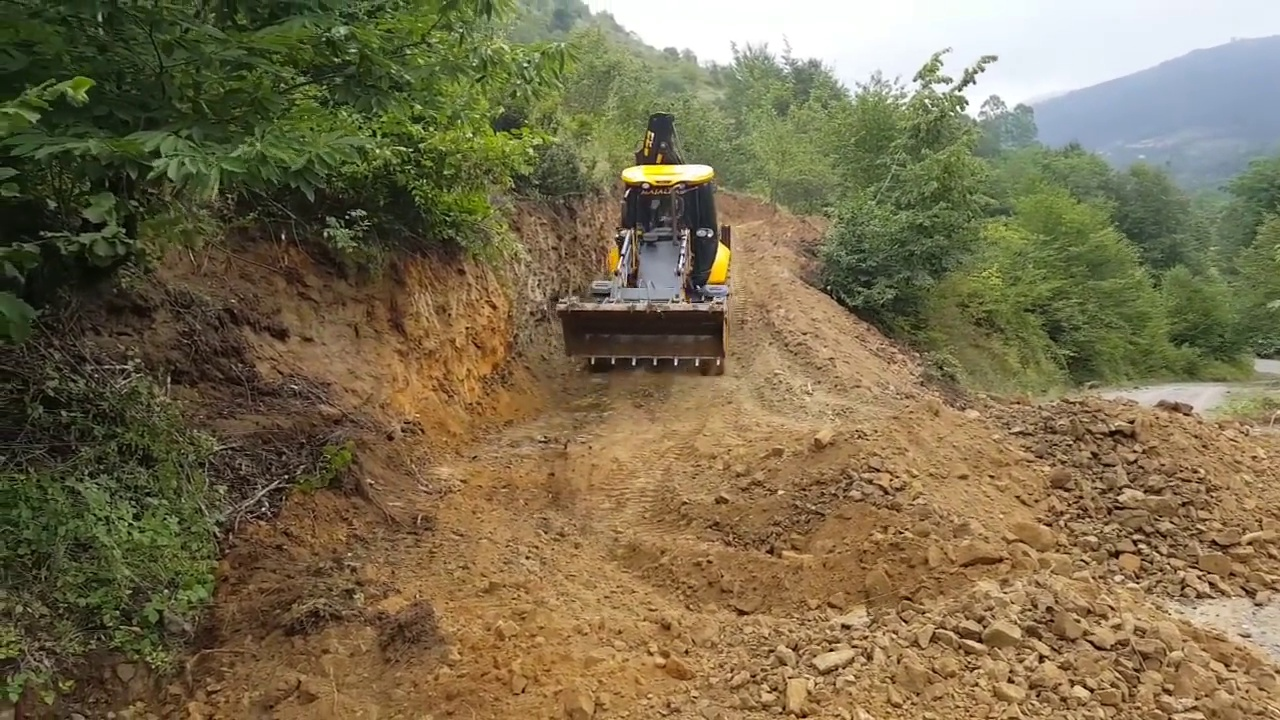wheel loader: (555, 110, 740, 380)
